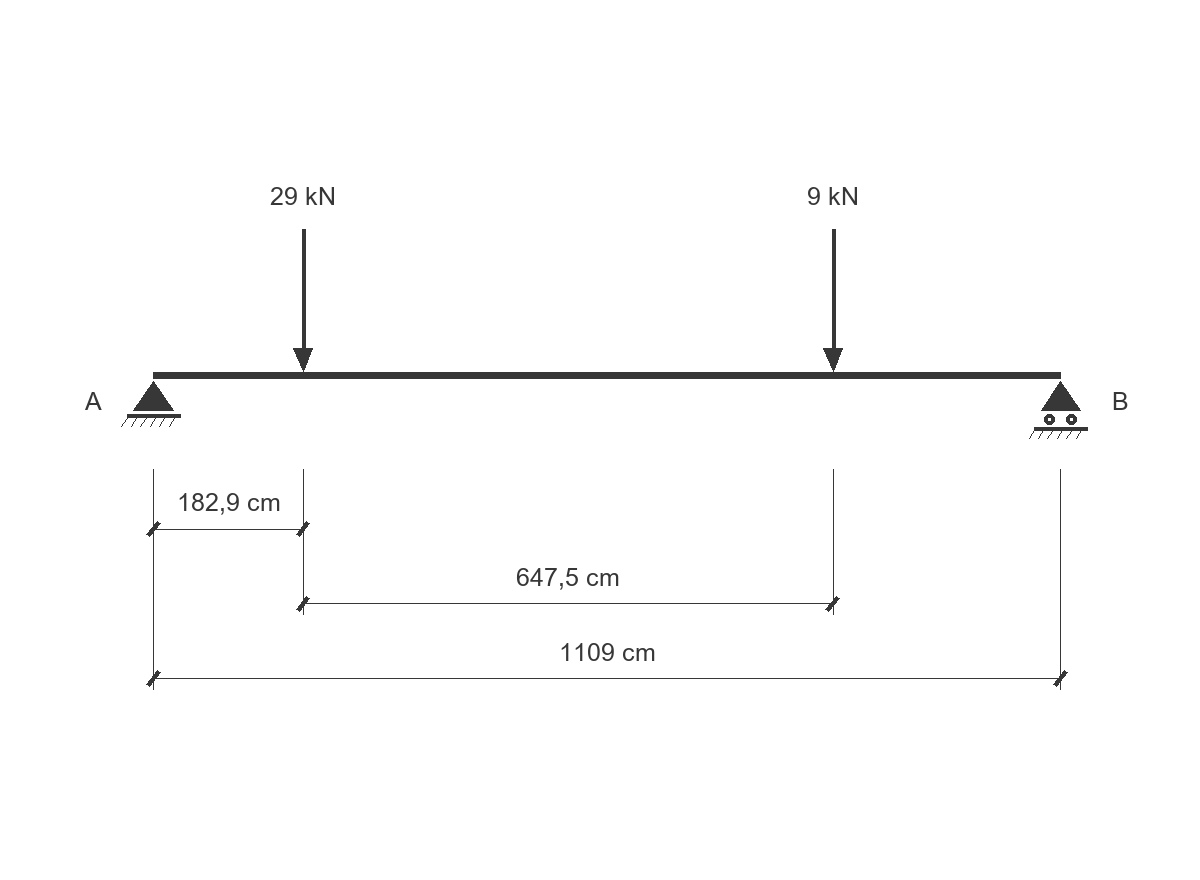pin_support: (121, 381, 181, 427)
point_load: (293, 229, 313, 372), (823, 229, 843, 372)
roller_support: (1029, 381, 1088, 439)
